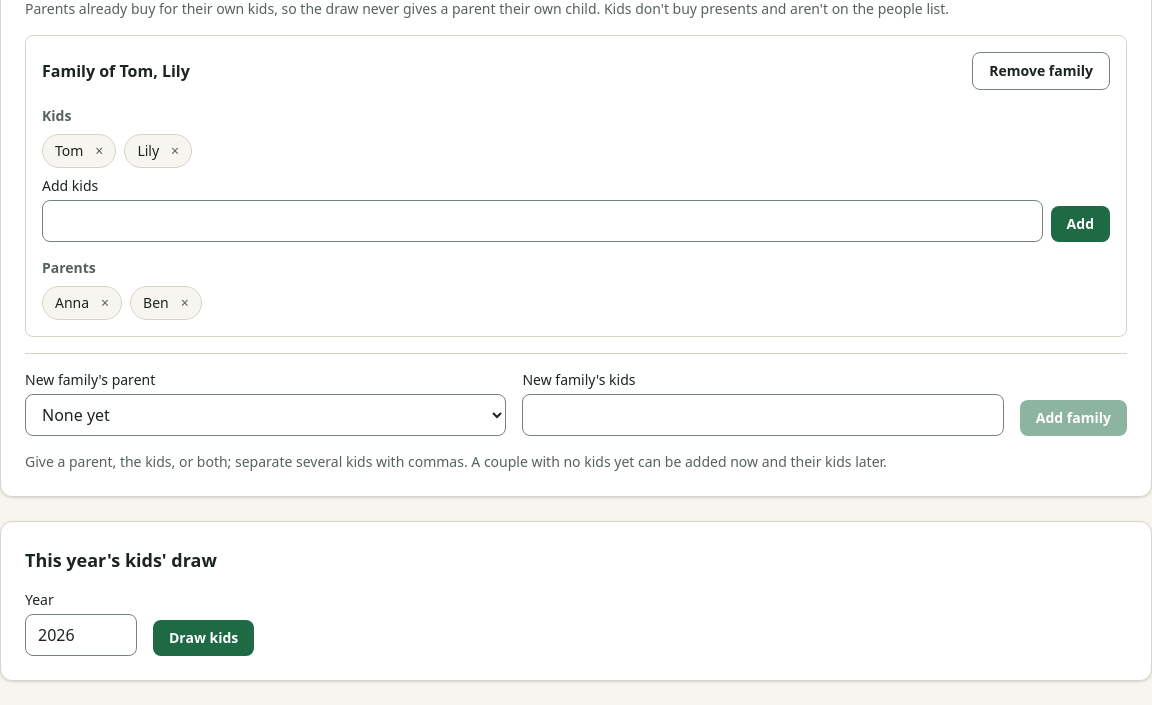
Scenario: KidsPanel › says which kids have no present when only their parents are adults
(page scrolled)
Click the button "Draw kids": (204, 638) [153,620,254,656]
(page scrolled)
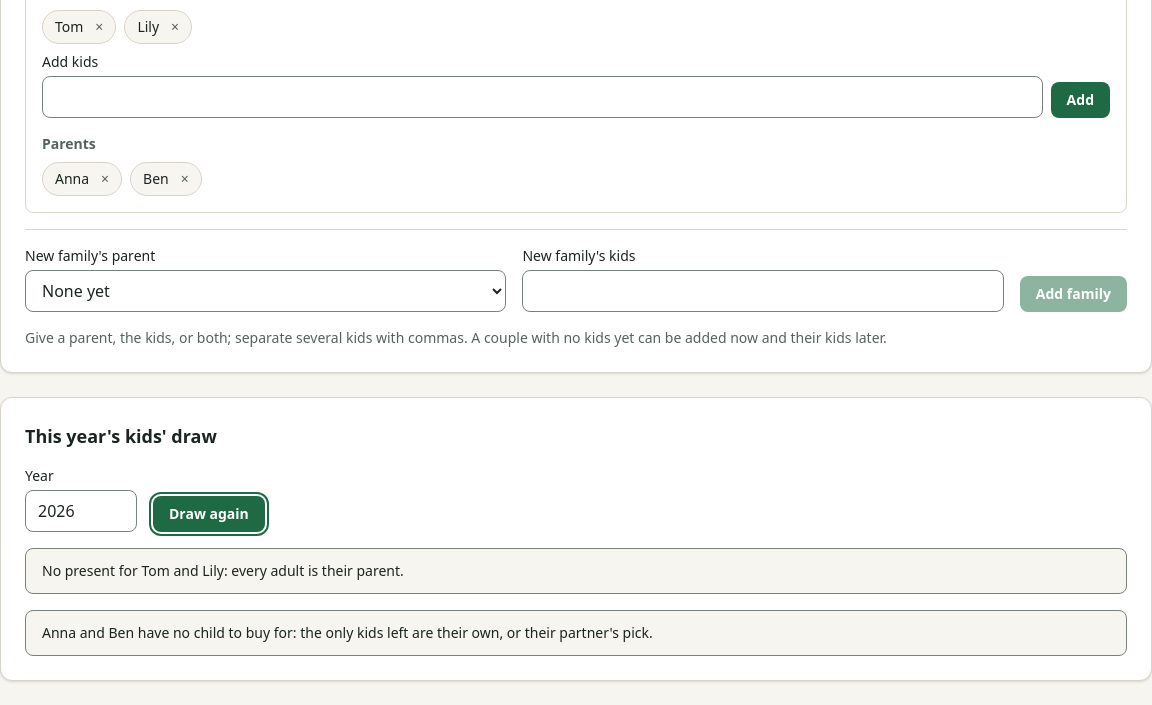
Check: the text "No present for Tom and Lily: every adult is their parent." is shown, box [25,548,1127,594]
Check: the text "Anna and Ben have no child to buy for" is shown, box [25,610,1127,656]
